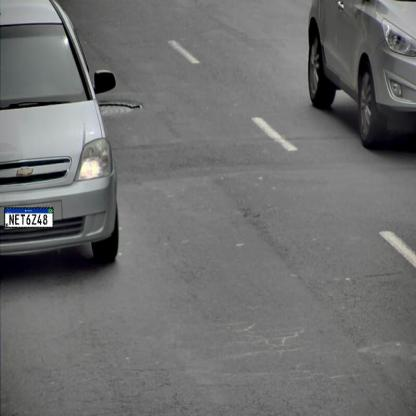PlacaM: (4, 207, 54, 228)
